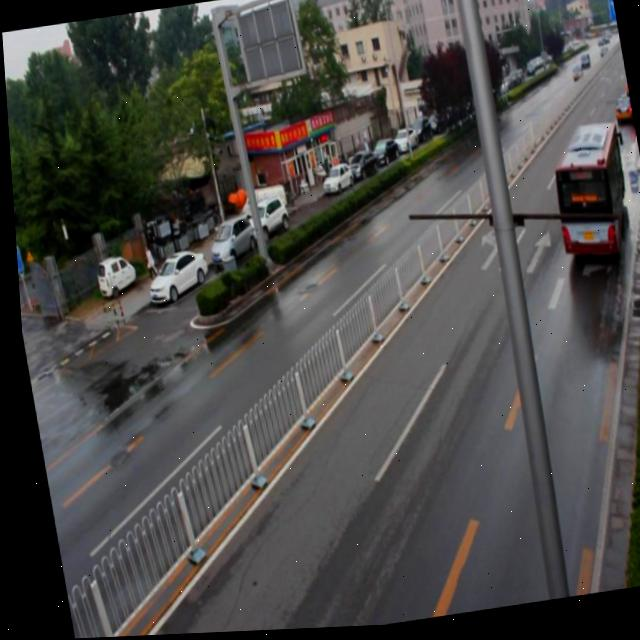van: (540, 121, 636, 265)
